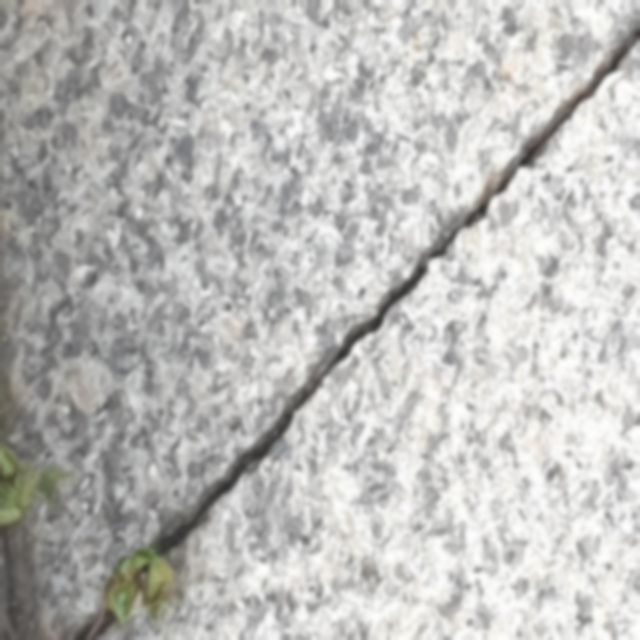SurfaceCrack: (8, 1, 639, 640)
